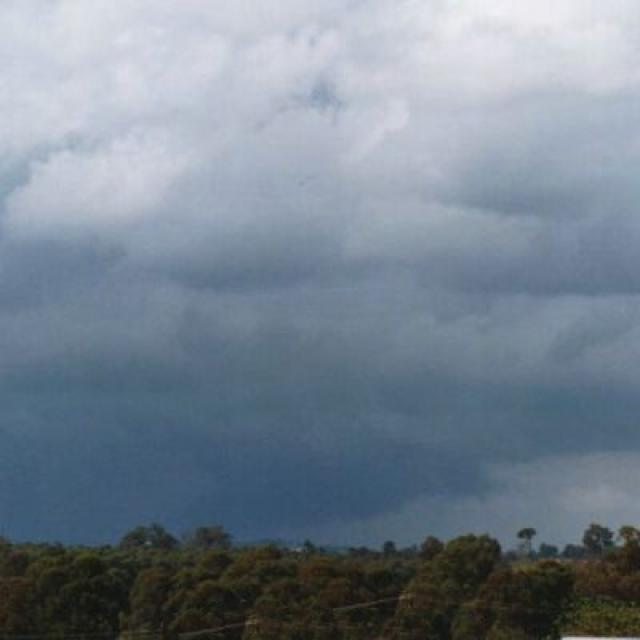Sc: (1, 1, 640, 448)
